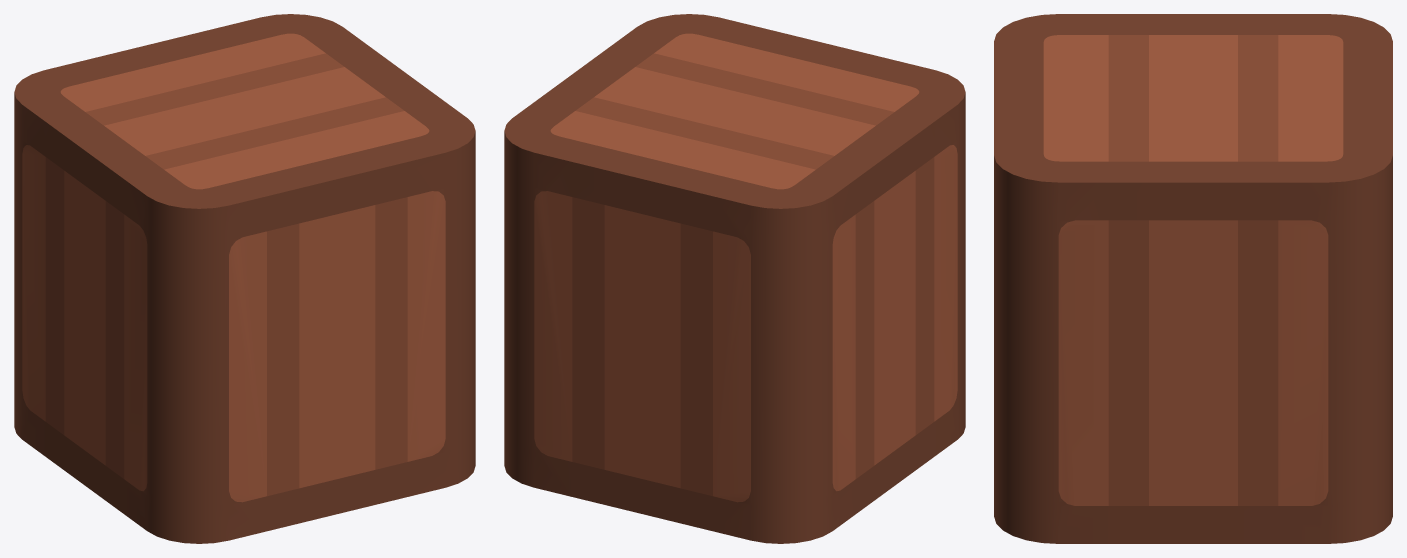
Rendered from Wood Box A.fbx.
3 views of the same model, side by side, from view 1: azimuth 30°, elevation 25°; view 2: azimuth 150°, elevation 25°; view 3: azimuth 270°, elevation 25° (orthographic). The views are drawn at different scales.
Parts seen in each view (by area): view 1: Wood Box A; view 2: Wood Box A; view 3: Wood Box A.
Part boxes in pixels (x1,y1,x2,y2): Wood Box A: [14, 14, 475, 543]; Wood Box A: [504, 14, 965, 543]; Wood Box A: [994, 14, 1392, 543].
Size of the model in its own units: 1.12 by 1.12 by 1.12.
